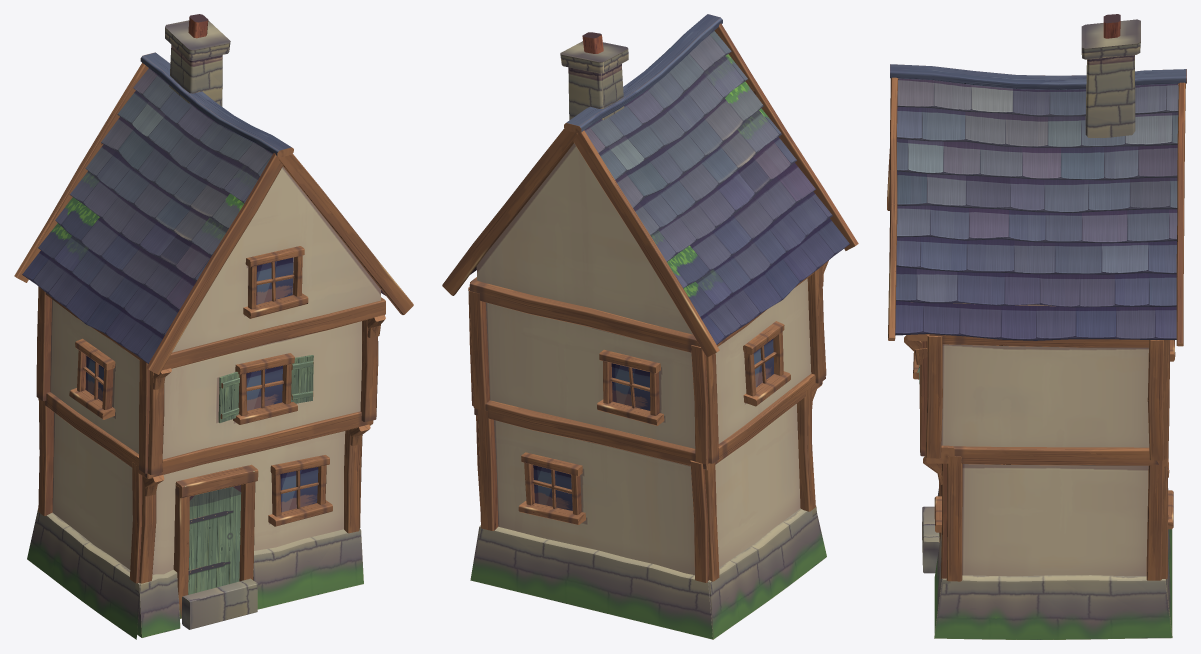
Rendered from Townhouse.glb.
The picture shows the model from 3 angles, left to right: view 1: azimuth 30°, elevation 25°; view 2: azimuth 150°, elevation 25°; view 3: azimuth 270°, elevation 25°; orthographic projection. The views are drawn at different scales.
Parts seen in each view (by area): view 1: Townhouse_Walls, Townhouse_Frame, Townhouse_Roof, Townhouse_Joinery; view 2: Townhouse_Walls, Townhouse_Roof, Townhouse_Frame, Townhouse_Joinery; view 3: Townhouse_Roof, Townhouse_Walls, Townhouse_Frame, Townhouse_Joinery.
Boxes of the visible parts, bbox=[...] form: Townhouse_Walls: bbox=[27, 20, 380, 639]; Townhouse_Frame: bbox=[14, 52, 413, 618]; Townhouse_Roof: bbox=[22, 68, 385, 363]; Townhouse_Joinery: bbox=[77, 14, 385, 594]; Townhouse_Walls: bbox=[470, 41, 826, 639]; Townhouse_Roof: bbox=[470, 31, 849, 344]; Townhouse_Frame: bbox=[442, 14, 858, 582]; Townhouse_Joinery: bbox=[524, 32, 828, 514]; Townhouse_Roof: bbox=[895, 78, 1178, 340]; Townhouse_Walls: bbox=[911, 19, 1172, 639]; Townhouse_Frame: bbox=[887, 64, 1186, 581]; Townhouse_Joinery: bbox=[904, 14, 1120, 484].
Size of the model in its own units: 17.51 by 33.24 by 15.71.
4 materials, 4 textured.
